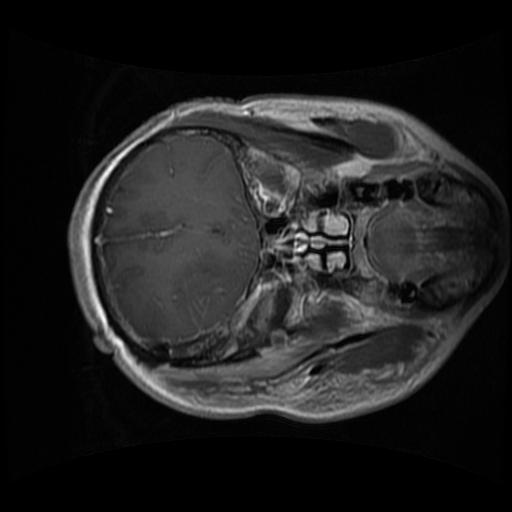glioma: (171, 255, 256, 336)
